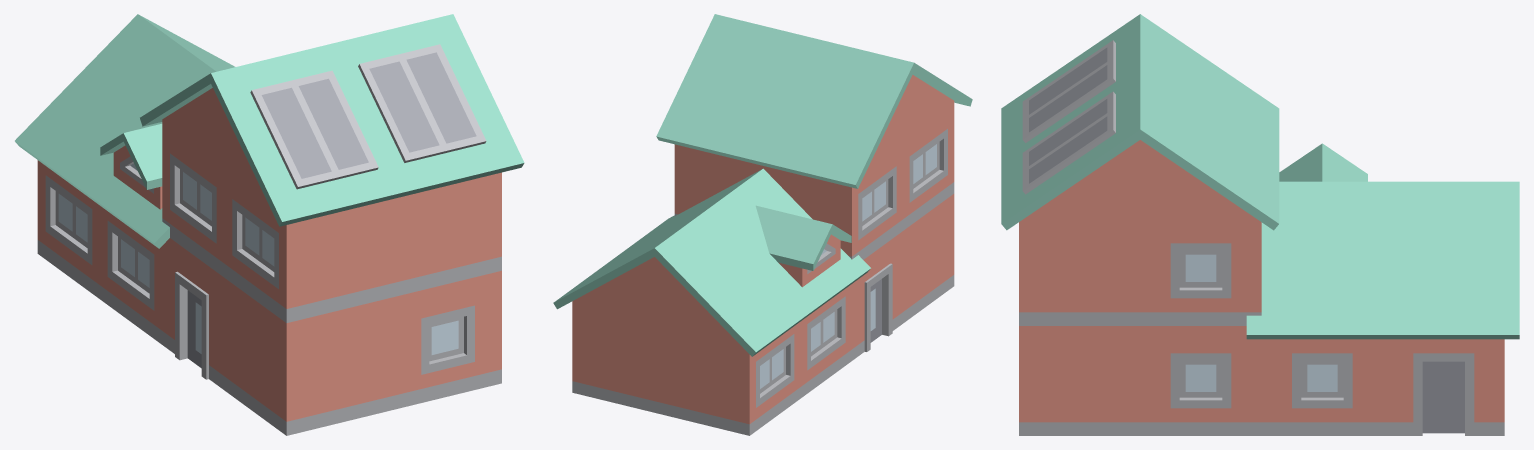
File: house3.fbx
3 views of the same model, side by side, from view 1: azimuth 30°, elevation 25°; view 2: azimuth 150°, elevation 25°; view 3: azimuth 270°, elevation 25° (orthographic). The views are drawn at different scales.
Visible parts, largest first — view 1: house_type03; view 2: house_type03; view 3: house_type03.
Boxes of the visible parts, box(x1,y1,x2,y2) form: house_type03: box(15, 14, 524, 435); house_type03: box(553, 14, 972, 435); house_type03: box(1001, 14, 1519, 435).
Bounding box in the file's own units: 916 × 1137 × 1708.
